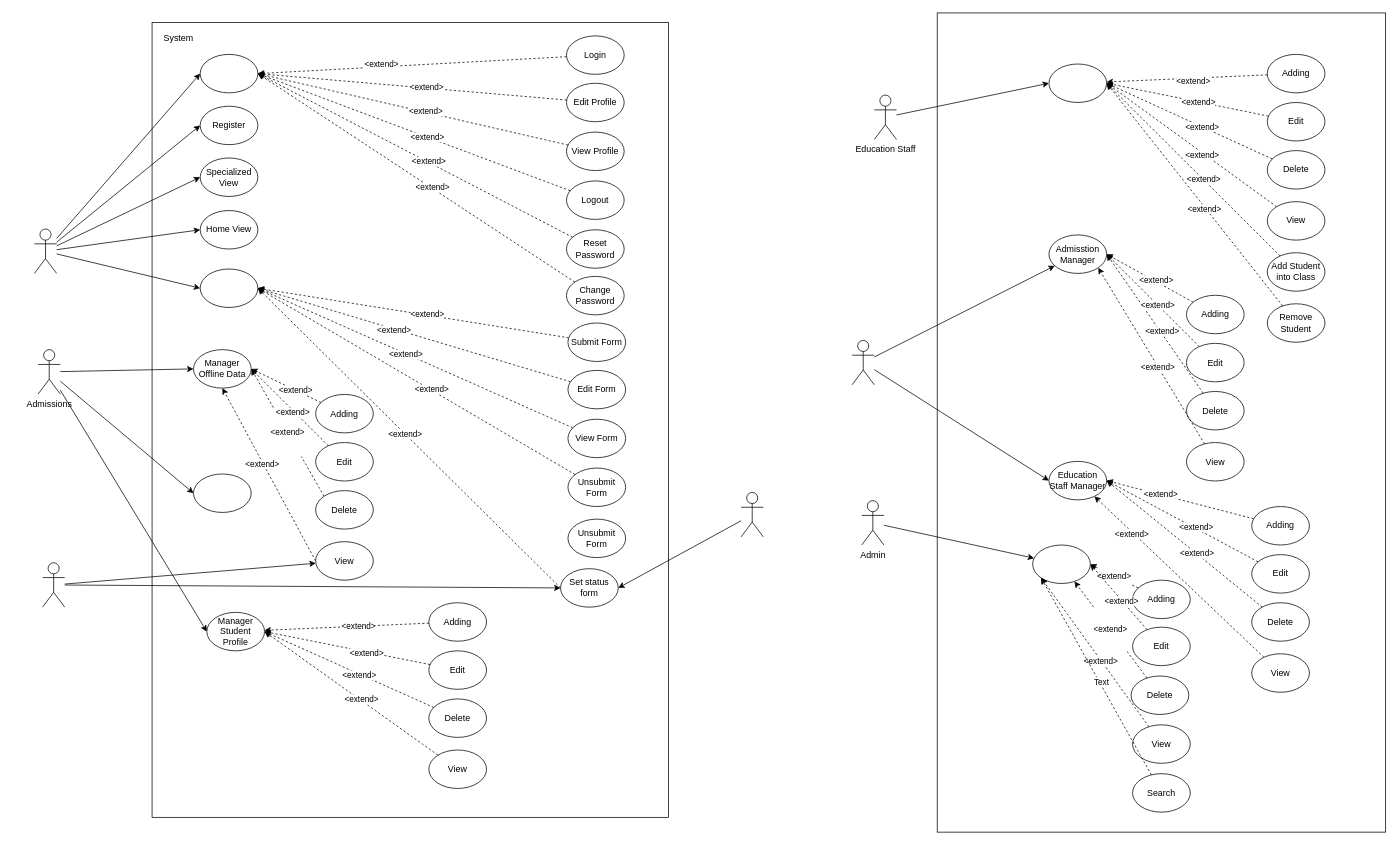
This 1399x845 diagram has some shape labels left out. The centre of each missing label's shape, as x and y in pixels:
Class Manager: [1077,82]
Leader: [862,362]
Manager Account: [228,73]
Manager Information form: [228,287]
Normal User: [45,250]
Offline Advisory Staff: [53,584]
Online Advisory Staff: [751,514]
Staff Manager: [1061,563]
View Staff Sales: [222,492]
